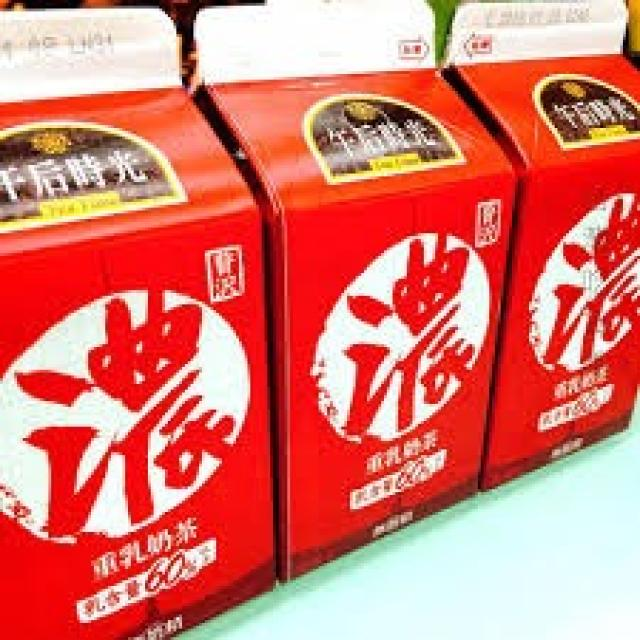Known_MilkTea: (1, 11, 265, 628), (197, 0, 482, 536), (456, 2, 640, 477)
